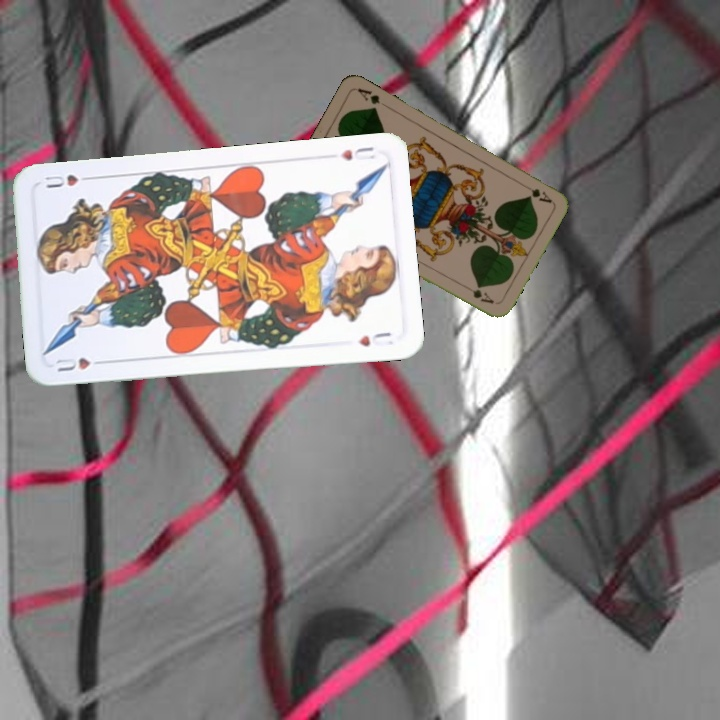GA: (517, 179, 555, 206)
HU: (52, 354, 109, 374), (336, 142, 377, 163)
